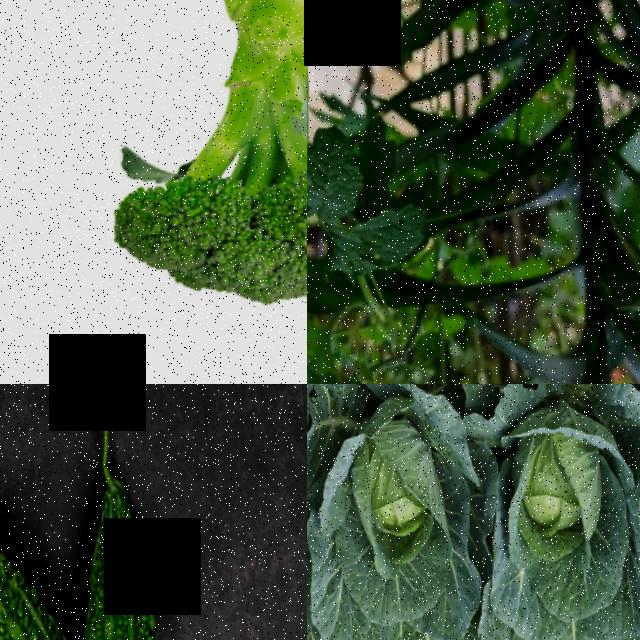bitter gourd: (60, 406, 191, 640), (307, 0, 379, 366), (0, 504, 84, 640)
broccoli: (0, 0, 307, 381)
cabbage: (307, 384, 515, 640), (464, 384, 638, 616)
